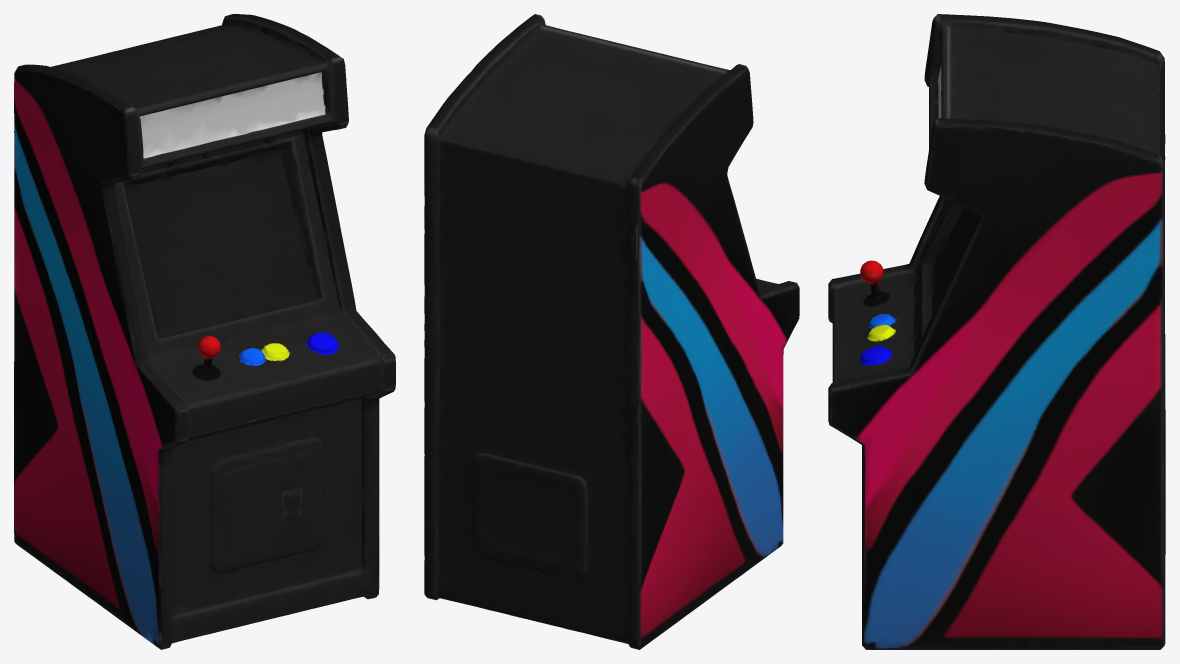
Rendered from 02_arcade_02_upright_neon_magenta.glb.
3 views of the same model, side by side, from view 1: azimuth 30°, elevation 25°; view 2: azimuth 150°, elevation 25°; view 3: azimuth 270°, elevation 25° (orthographic). The views are drawn at different scales.
Parts seen in each view (by area): view 1: world; view 2: world; view 3: world.
Boxes of the visible parts, left/top/right/bottom form: world: left=14, top=14, right=395, bottom=649; world: left=424, top=14, right=799, bottom=649; world: left=828, top=14, right=1165, bottom=649.
Bounding box in the file's own units: 0.4504 × 1 × 0.5813.
Materials: 1 (1 with a texture image).
